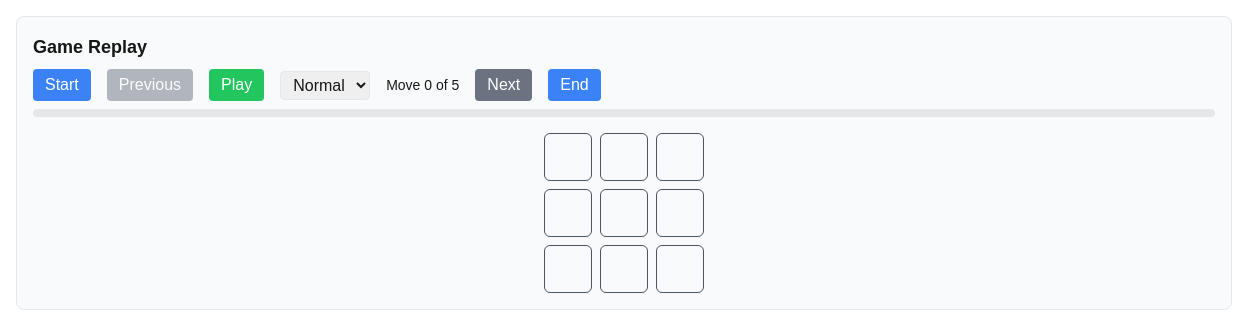
Test case: GameReplay Component › advances moves when next is clicked
The image size is (1249, 327).
Click the button "Next" at (504, 85), box top-left (475, 69), bottom-right (532, 101)
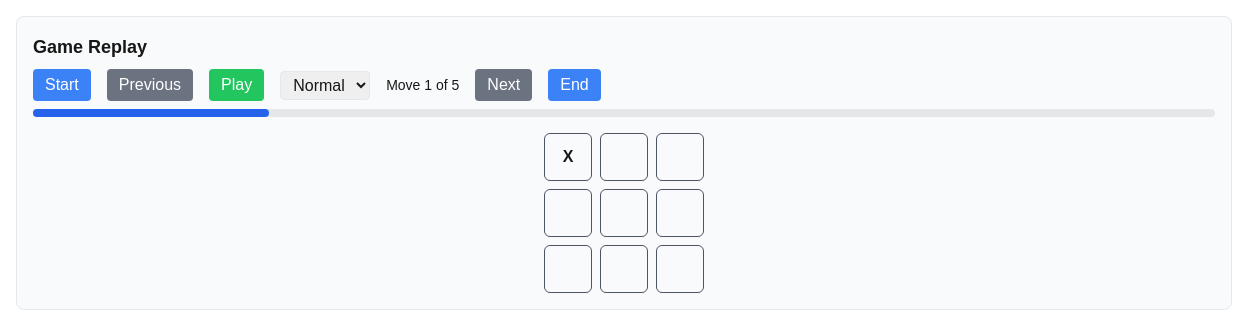
Check: the text "Move 1 of 5" is shown, box top-left (386, 75), bottom-right (459, 95)
